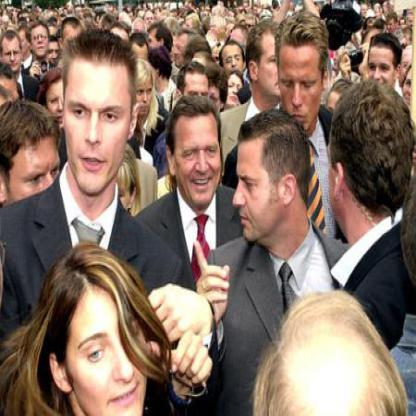face: (64, 37, 132, 197), (5, 112, 65, 245), (231, 120, 286, 247), (175, 100, 224, 209), (281, 29, 324, 137), (258, 24, 295, 104), (369, 37, 397, 99), (47, 73, 74, 130), (132, 67, 156, 118), (223, 43, 245, 83), (223, 72, 245, 110), (3, 33, 22, 74), (31, 20, 51, 58), (44, 38, 63, 72)
